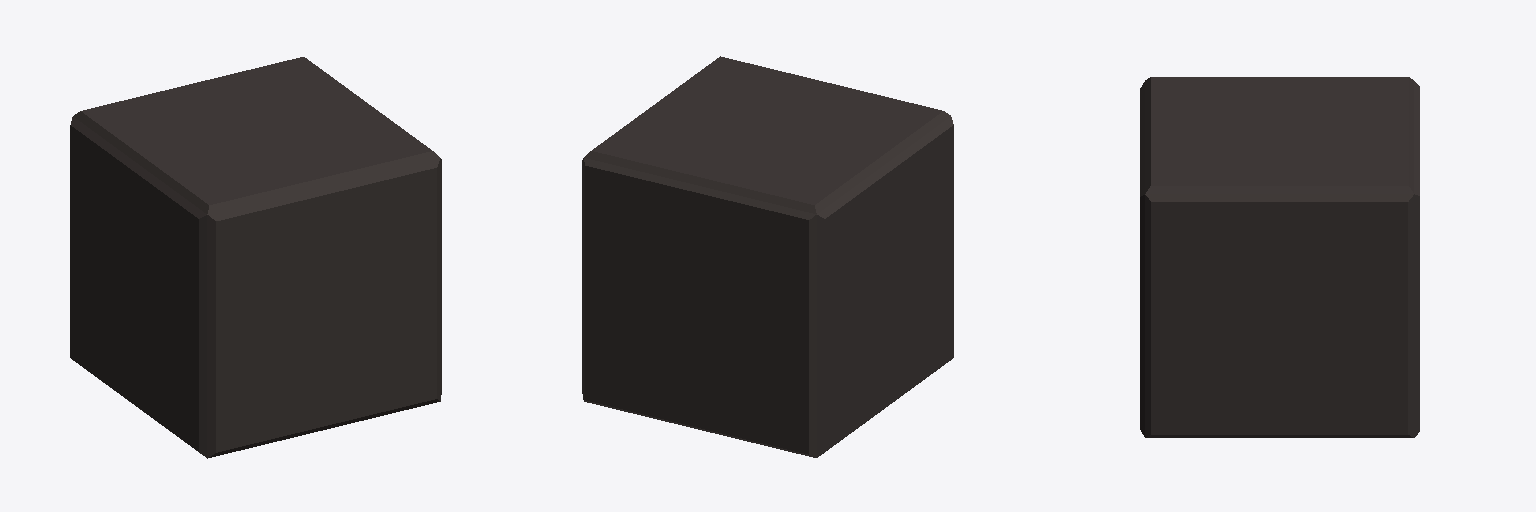
The model's file is wall_1.obj.
The picture shows the model from 3 angles: view 1: azimuth 30°, elevation 25°; view 2: azimuth 150°, elevation 25°; view 3: azimuth 270°, elevation 25°; orthographic projection.
Visible parts, largest first — view 1: Cube_Cube.009; view 2: Cube_Cube.009; view 3: Cube_Cube.009.
Part boxes in pixels (x1,y1,x2,y2): Cube_Cube.009: (70,57,441,458); Cube_Cube.009: (582,56,953,457); Cube_Cube.009: (1140,77,1419,437).
Bounding box in the file's own units: 5.45 × 5.36 × 5.45.